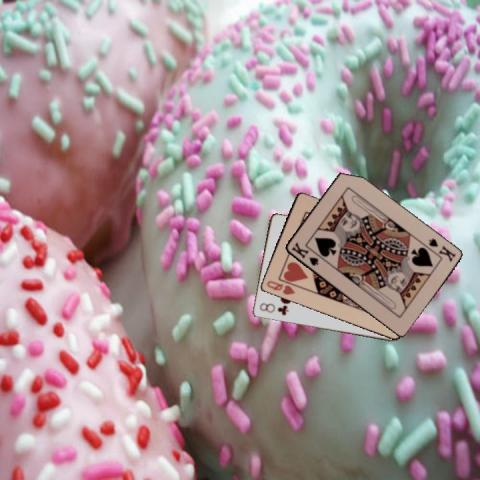8c: (256, 300, 290, 317)
Ks: (289, 239, 320, 268), (425, 236, 457, 264)
Qh: (263, 277, 296, 296)
